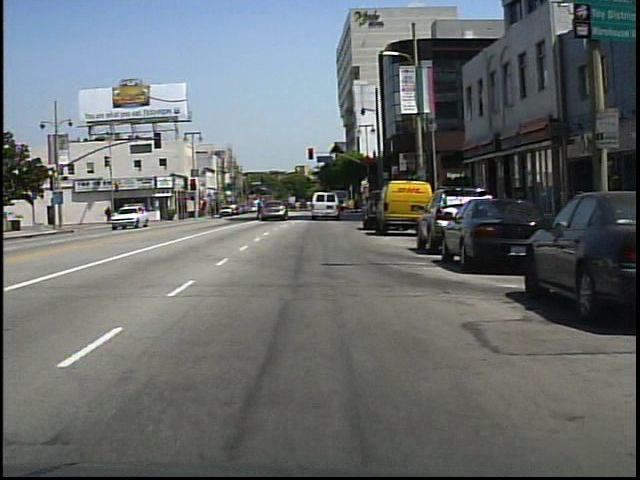person: (252, 193, 266, 222), (104, 204, 114, 224)
